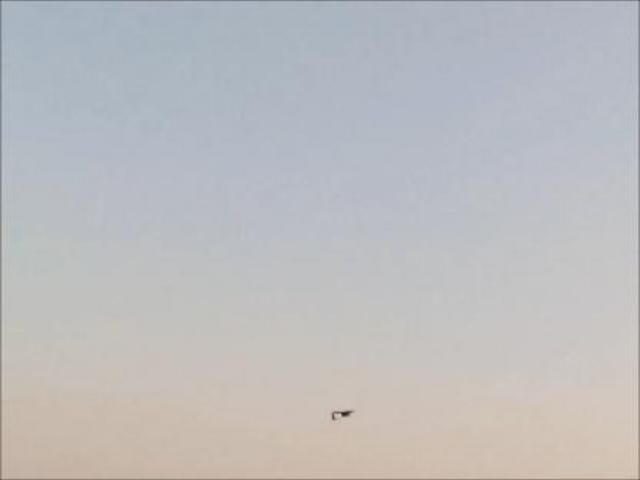uav: (323, 401, 362, 426)
